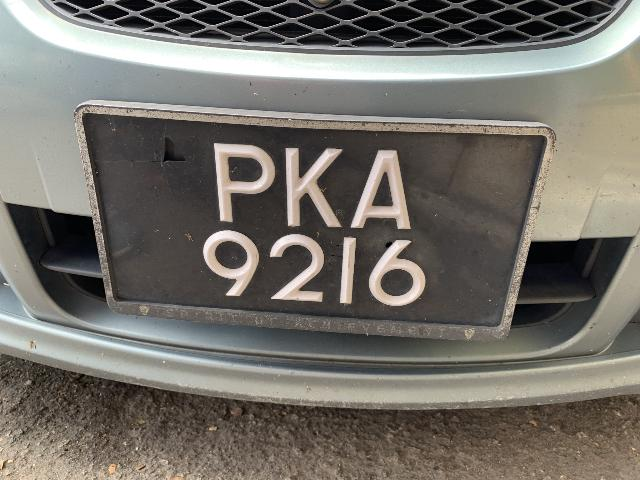License_Plate: (83, 112, 522, 339)
